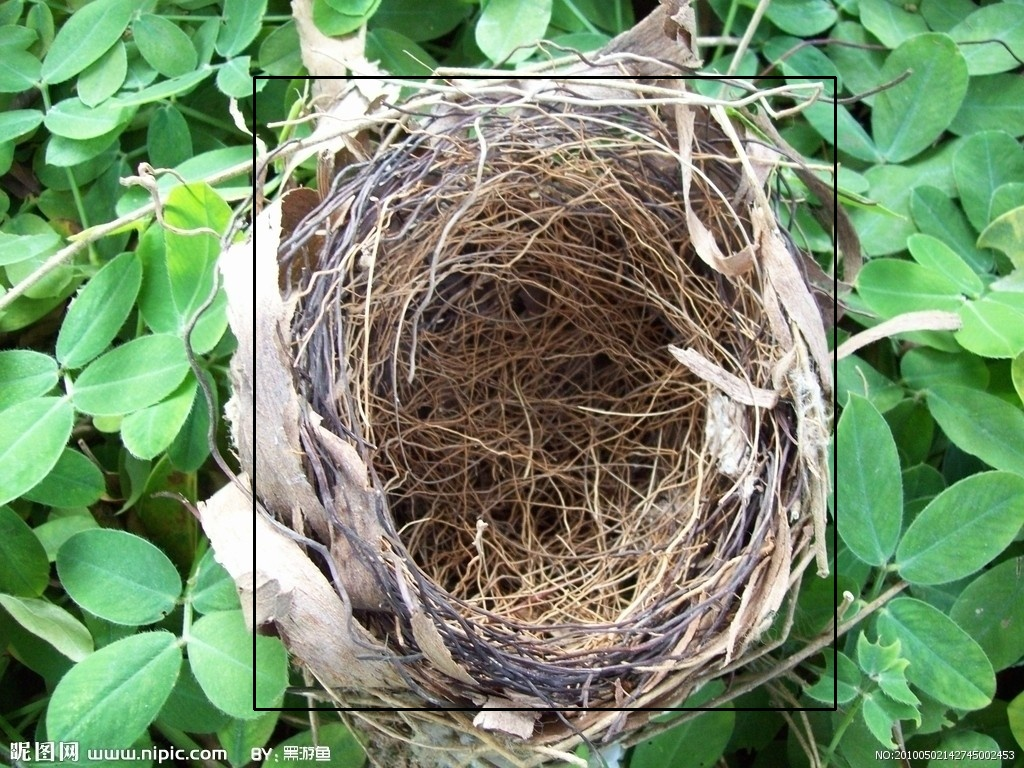bird-nest: (254, 77, 835, 709)
